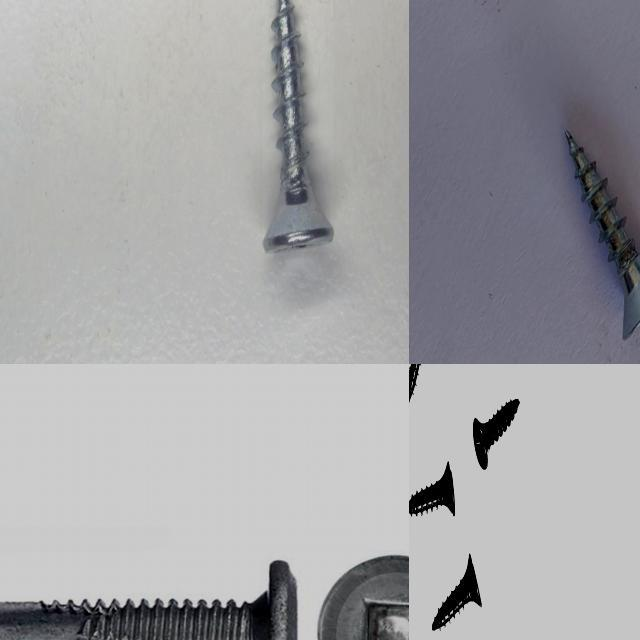Screw: (0, 561, 297, 640), (565, 130, 640, 339), (312, 546, 409, 640), (433, 554, 482, 630), (473, 398, 520, 469), (409, 461, 455, 515), (409, 364, 420, 401)
